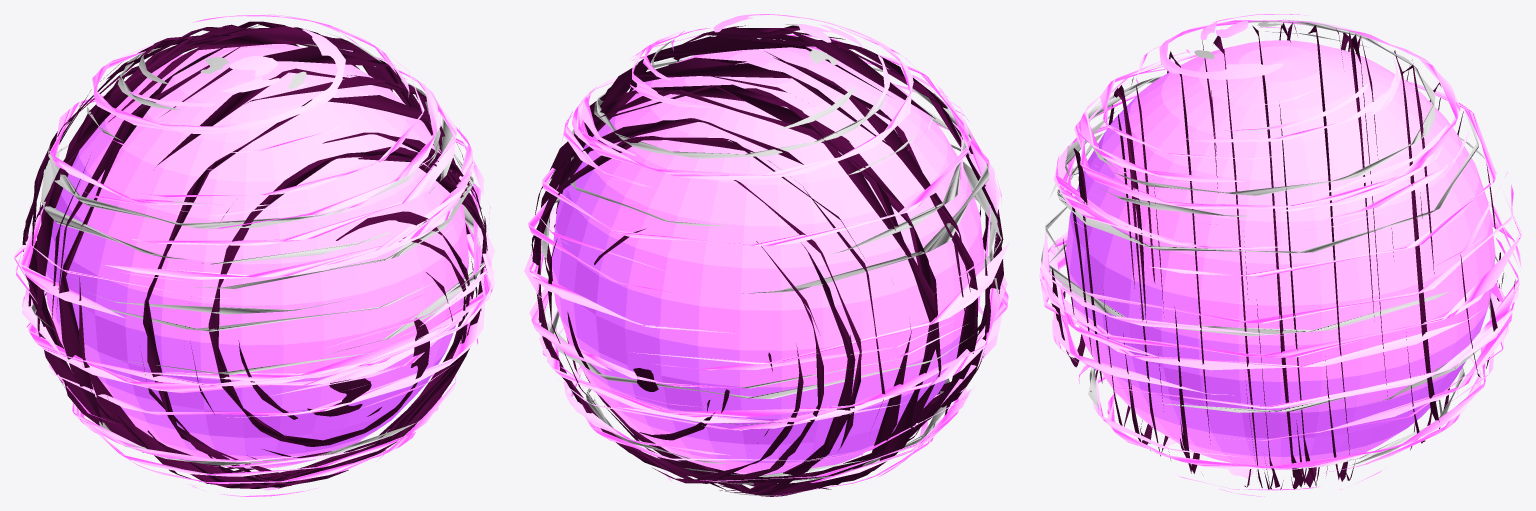
File: Purple.fbx
3 views of the same model, side by side, from view 1: azimuth 30°, elevation 25°; view 2: azimuth 150°, elevation 25°; view 3: azimuth 270°, elevation 25° (orthographic).
Parts seen in each view (by area): view 1: Purple; view 2: Purple; view 3: Purple.
Boxes of the visible parts, x1,y1,x2,y2 form: Purple: [14, 14, 495, 496]; Purple: [524, 14, 1009, 496]; Purple: [1039, 14, 1521, 496].
Size of the model in its own units: 332 by 329 by 331.
